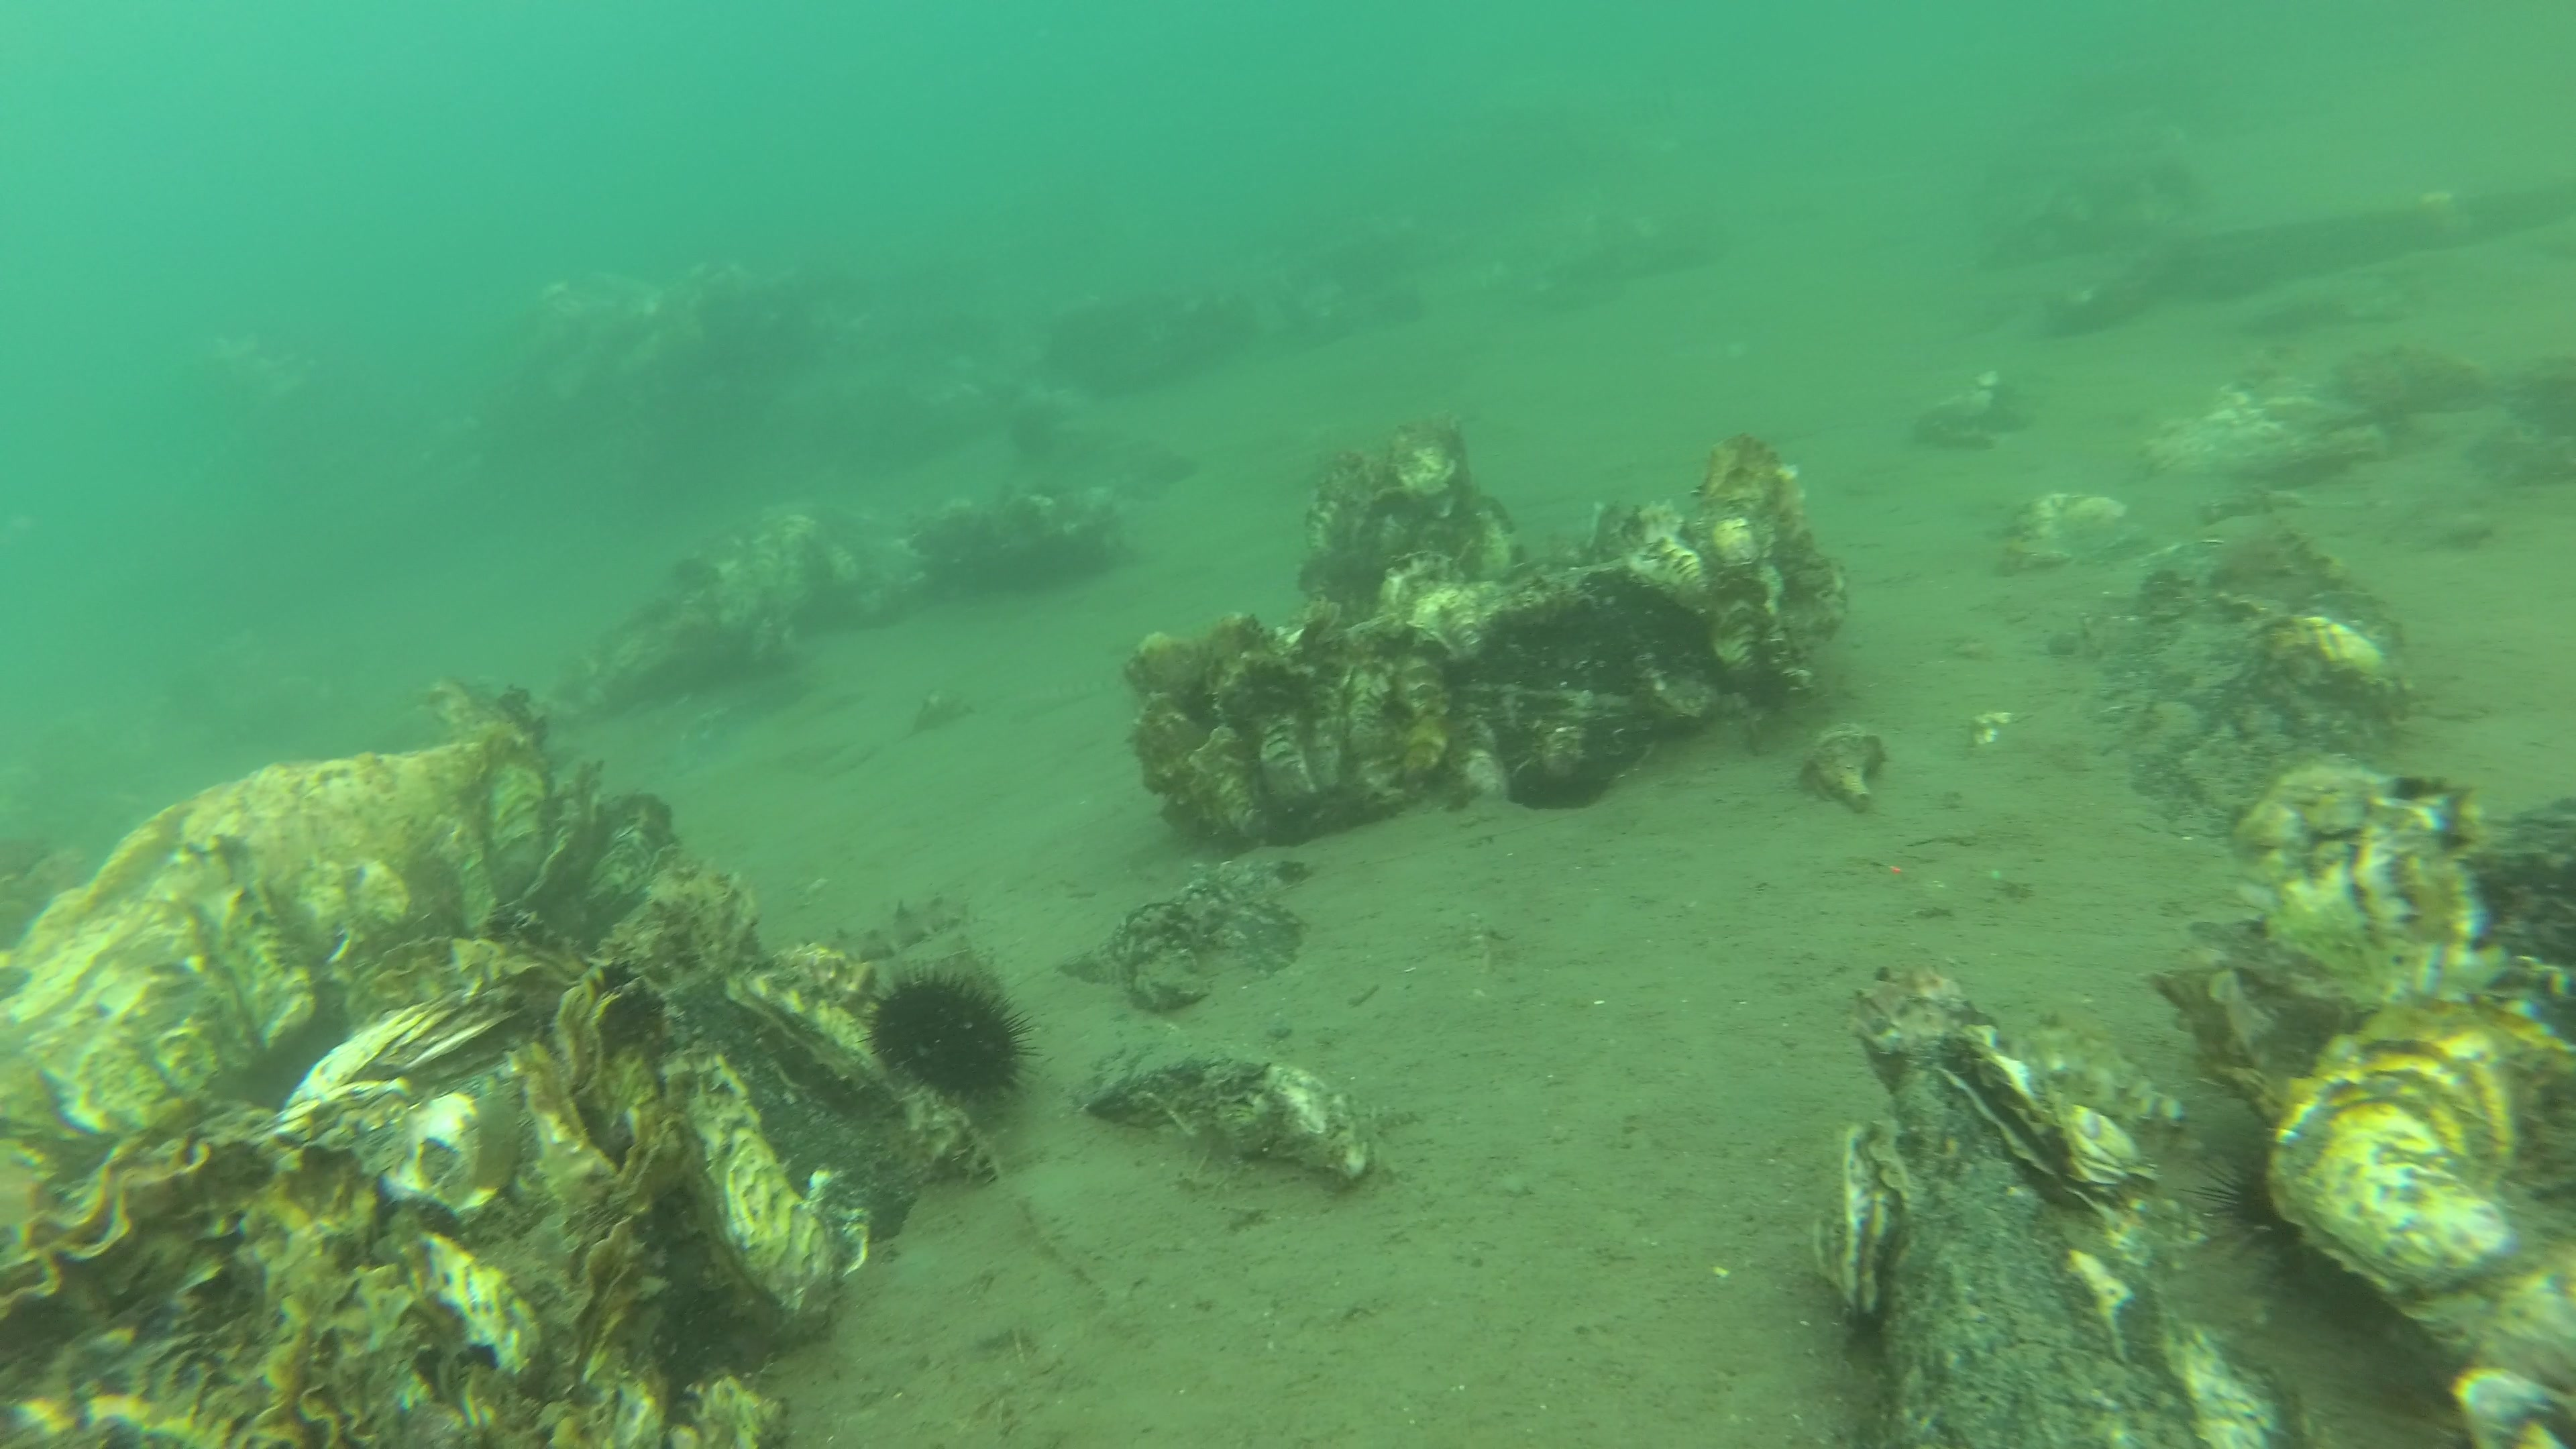echinus: (855, 961, 1047, 1109), (2180, 1155, 2304, 1263), (1008, 387, 1079, 460)
